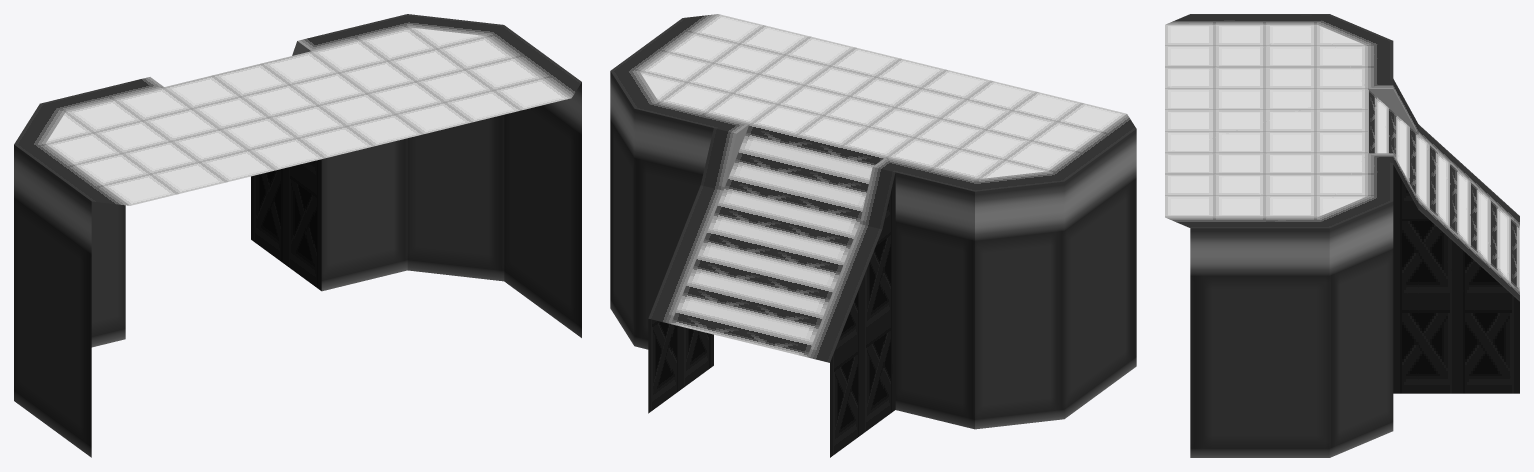
File: GYMSTAGELESS1-2.obj
3 renders of one model, left to right at view 1: azimuth 30°, elevation 25°; view 2: azimuth 150°, elevation 25°; view 3: azimuth 270°, elevation 25°, orthographic. The views are drawn at different scales.
Parts seen in each view (by area): view 1: polygon2, polygon4, polygon3, polygon8; view 2: polygon2, polygon4, polygon5, polygon3, polygon8; view 3: polygon2, polygon4, polygon8, polygon3, polygon5.
Part boxes in pixels (x1=…): polygon2: x1=14, y1=82, x2=581, y2=457; polygon4: x1=45, y1=27, x2=571, y2=205; polygon3: x1=14, y1=14, x2=581, y2=205; polygon8: x1=251, y1=159, x2=321, y2=290; polygon2: x1=610, y1=71, x2=1136, y2=429; polygon4: x1=639, y1=14, x2=1126, y2=179; polygon5: x1=671, y1=124, x2=885, y2=357; polygon3: x1=610, y1=14, x2=1136, y2=362; polygon8: x1=648, y1=172, x2=895, y2=457; polygon2: x1=1190, y1=201, x2=1393, y2=457; polygon4: x1=1165, y1=24, x2=1367, y2=217; polygon8: x1=1393, y1=165, x2=1519, y2=393; polygon3: x1=1166, y1=14, x2=1519, y2=301; polygon5: x1=1368, y1=89, x2=1519, y2=290.
Bounding box in the file's own units: 2.5 × 1.25 × 1.75.
